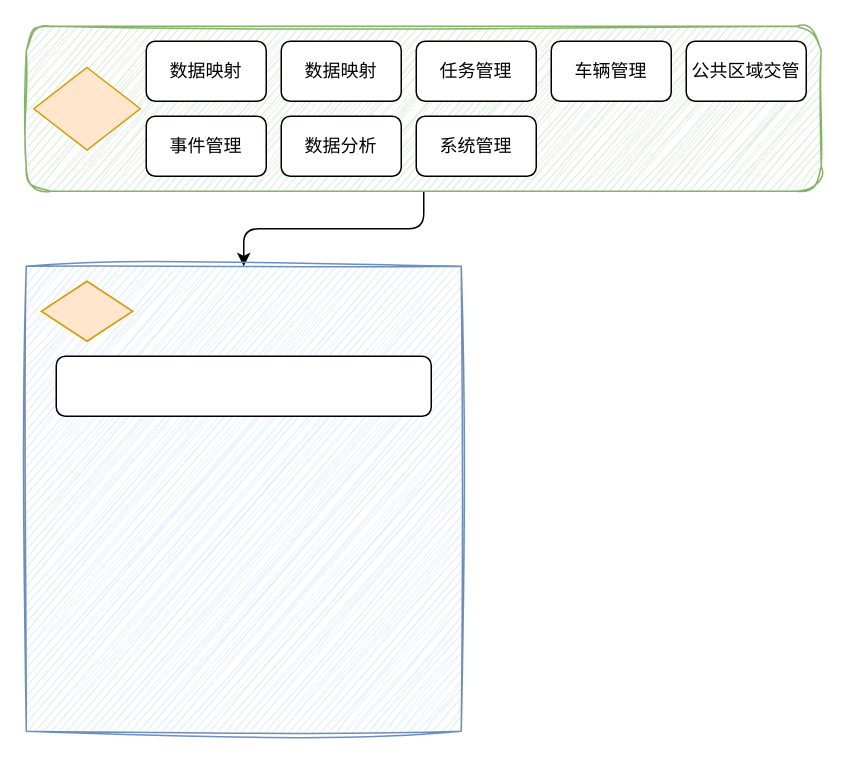
The diagram is 848 pixels wide and 758 high, and some of its shapes have lost their labels. The centre of each missing label's shape, as x and y in pixels:
Vue Router路由拦截/ 鉴权: the point at 243,385
业务层: the point at 86,310
展示层: the point at 86,108
